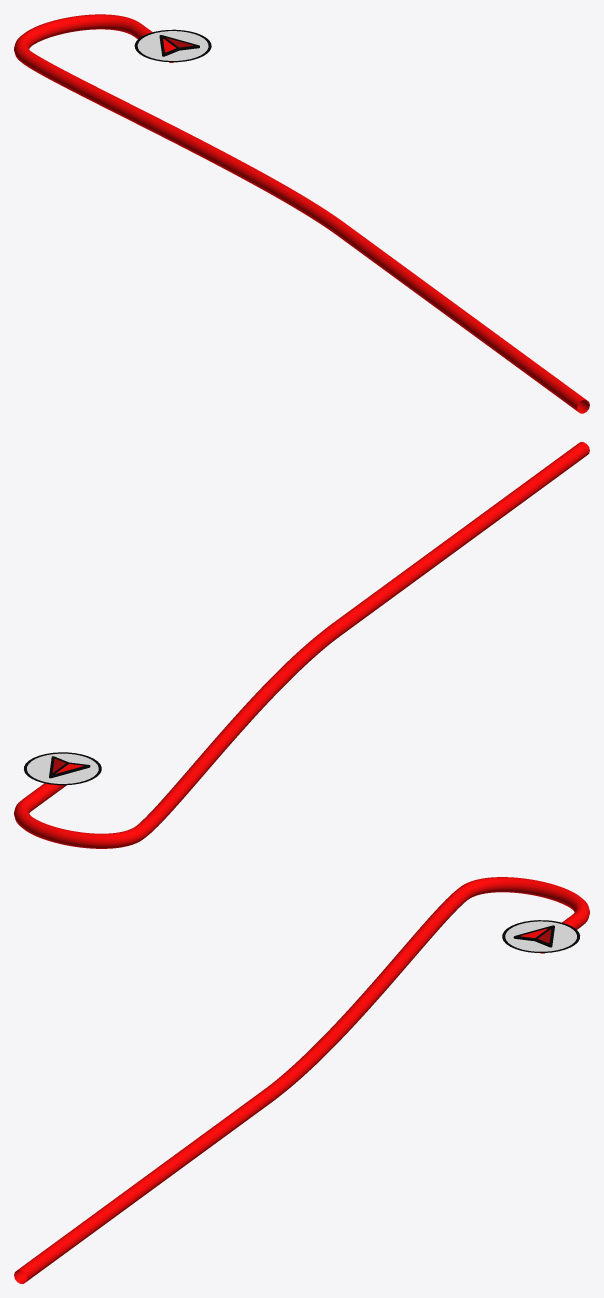
File: route_0e528fd5-af88-4784-800f-51cf04b420fe_en_single.glb
3 views of the same model, one above another, from view 1: azimuth 30°, elevation 25°; view 2: azimuth 150°, elevation 25°; view 3: azimuth 330°, elevation 25° (orthographic).
Visible parts, largest first — view 1: MVZ Oberland.001, Navipfeil.004; view 2: MVZ Oberland.001, Navipfeil.004; view 3: MVZ Oberland.001, Navipfeil.004.
Boxes of the visible parts, <box> form: MVZ Oberland.001: <box>14,14,589,413</box>; Navipfeil.004: <box>134,29,211,62</box>; MVZ Oberland.001: <box>14,442,589,848</box>; Navipfeil.004: <box>24,752,101,785</box>; MVZ Oberland.001: <box>14,877,589,1283</box>; Navipfeil.004: <box>502,920,580,952</box>.
Bounding box in the file's own units: 0.924 × 0.109 × 5.56.
